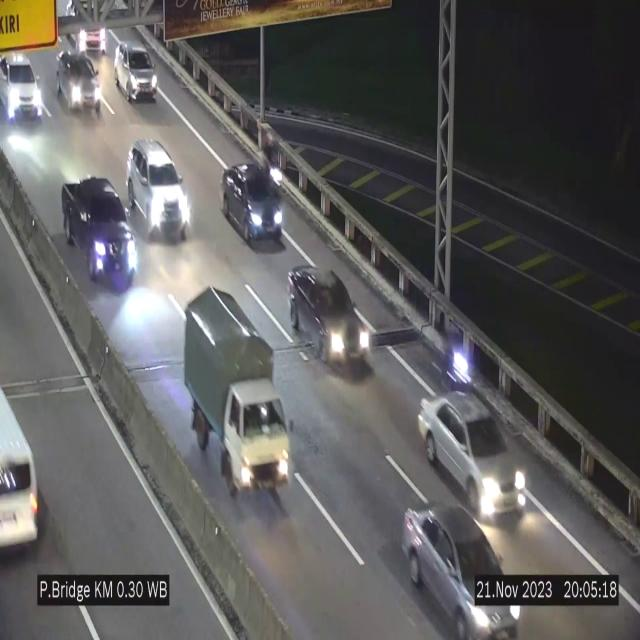Car: (403, 505, 520, 640), (416, 393, 530, 523), (289, 263, 369, 378), (61, 177, 139, 293), (0, 363, 46, 548), (126, 142, 190, 240), (222, 163, 284, 246), (55, 46, 103, 121), (0, 54, 45, 130), (115, 40, 157, 101)
Motorcycle: (446, 330, 480, 394), (263, 131, 283, 191)
Truck: (184, 290, 290, 512)
